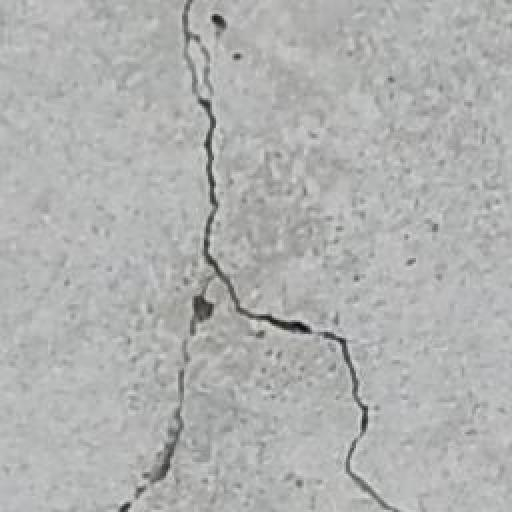spalling: (105, 5, 412, 512)
